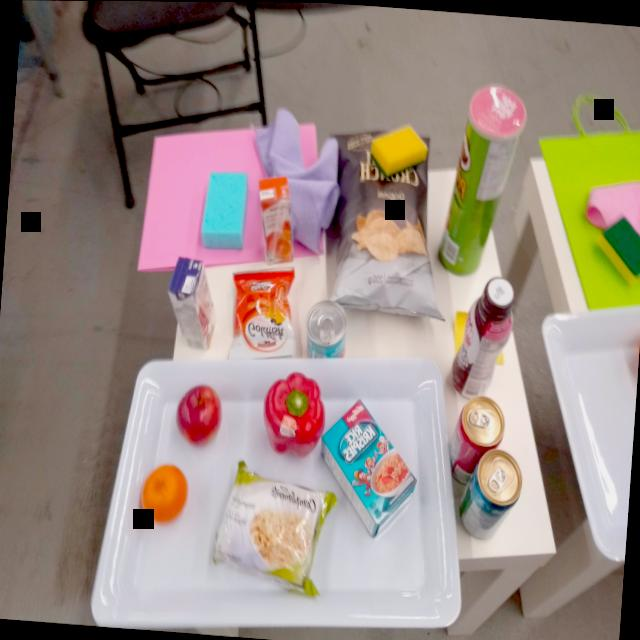apple: (172, 381, 226, 452)
cereal: (310, 390, 427, 544)
chocolate_drink: (448, 269, 518, 403)
coke: (444, 392, 508, 487)
crackers: (223, 257, 303, 368)
grape_juice: (163, 252, 224, 353)
noodles: (209, 455, 338, 597)
orange: (136, 456, 192, 527)
orange_juice: (252, 169, 299, 264)
paprika: (256, 369, 330, 463)
pringles: (433, 75, 532, 282)
sausages: (303, 295, 350, 360)
scrubby: (365, 119, 431, 181), (592, 209, 640, 288)
sponge_opl: (198, 166, 251, 248)
sprite: (458, 444, 527, 545)
